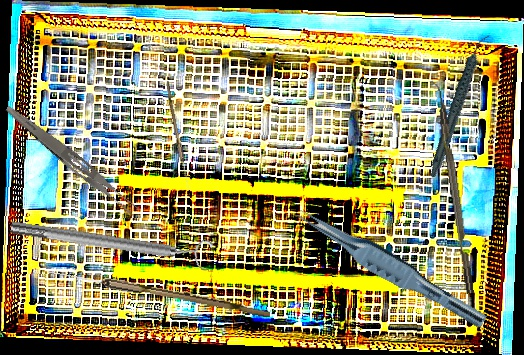Chopper: (426, 78, 474, 296)
Dressing Forceps: (0, 102, 143, 220)
Fixation Ring: (8, 209, 214, 274)
Handpiece: (401, 31, 517, 180)
Surgical Spoon: (46, 267, 272, 318), (163, 80, 192, 191)
Tissue Forceps: (289, 203, 494, 330)
